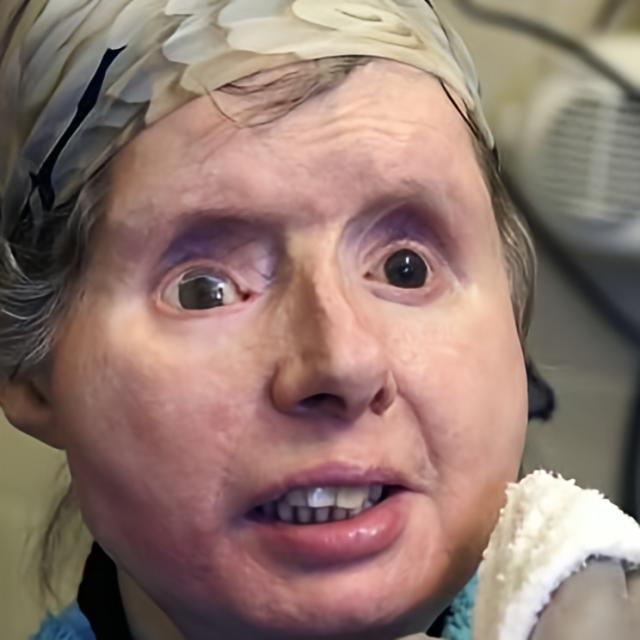fear: (48, 54, 528, 640)
